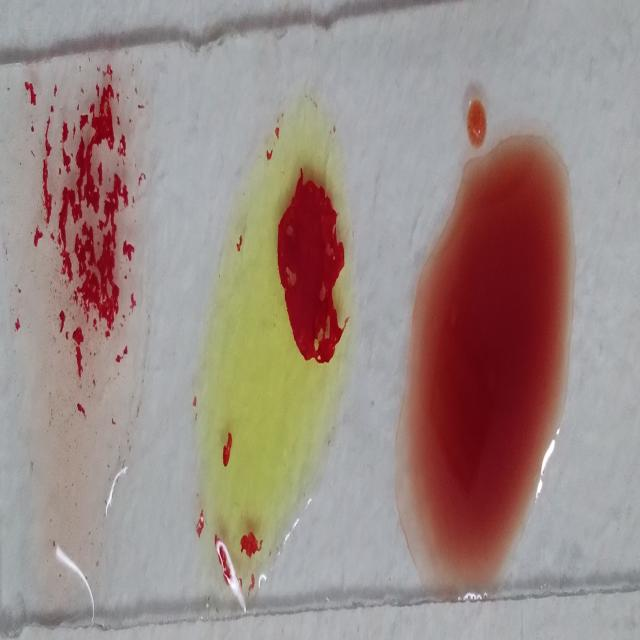B: (192, 82, 354, 608)
D: (22, 56, 150, 568)
